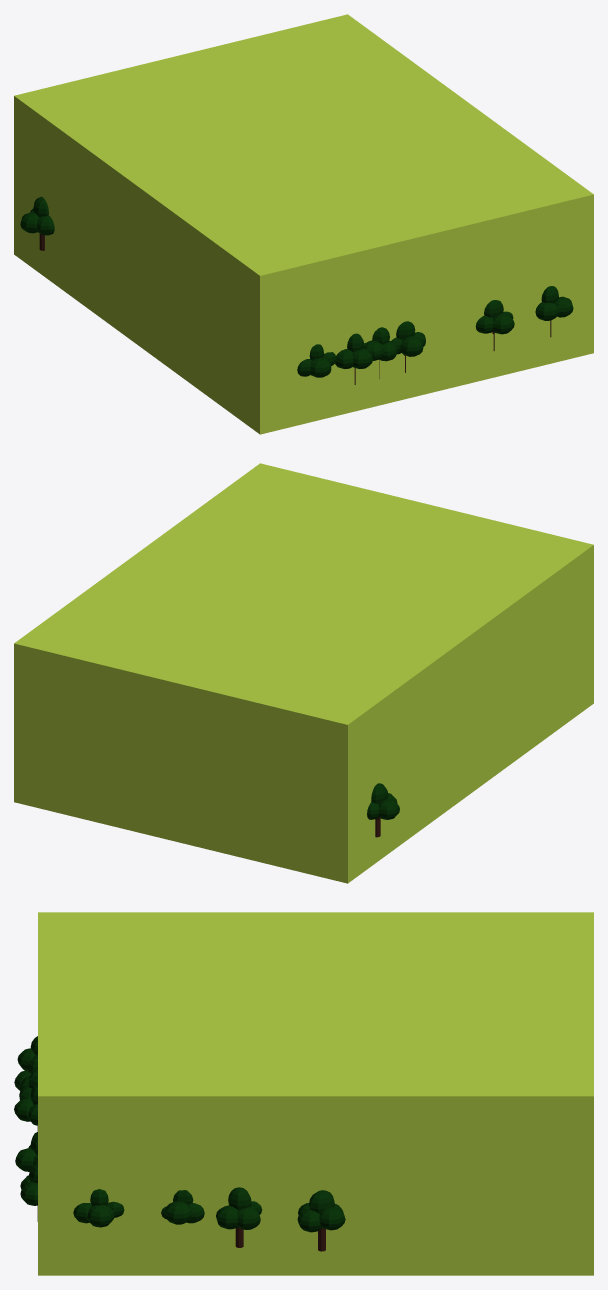
Rendered from Map3.obj.
The picture shows the model from 3 angles, top to bottom: view 1: azimuth 30°, elevation 25°; view 2: azimuth 150°, elevation 25°; view 3: azimuth 270°, elevation 25°; orthographic projection. The views are drawn at different scales.
Visible parts, largest first — view 1: Barrier, Tree.007, Tree.025, Tree.006, Tree.010, Tree.011, Tree.008, Tree.009; view 2: Barrier, Tree.025; view 3: Barrier, Tree.002, Tree.003, Tree.005, Tree.004, Tree.008, Tree.006, Tree.007.
Part boxes in pixels (x1,y1,x2,y2): Barrier: (14, 14, 593, 434); Tree.007: (475, 300, 514, 350); Tree.025: (20, 197, 54, 250); Tree.006: (535, 286, 573, 337); Tree.010: (335, 333, 372, 384); Tree.011: (297, 344, 336, 377); Tree.008: (391, 321, 425, 372); Tree.009: (364, 327, 398, 378); Barrier: (14, 463, 593, 883); Tree.025: (367, 783, 399, 837); Barrier: (38, 912, 593, 1275); Tree.002: (297, 1190, 345, 1251); Tree.003: (216, 1187, 262, 1247); Tree.005: (73, 1189, 124, 1227); Tree.004: (161, 1190, 204, 1224); Tree.008: (14, 1083, 37, 1131); Tree.006: (20, 1163, 37, 1221); Tree.007: (15, 1132, 37, 1171).
Size of the model in its own units: 603 by 252 by 704.
